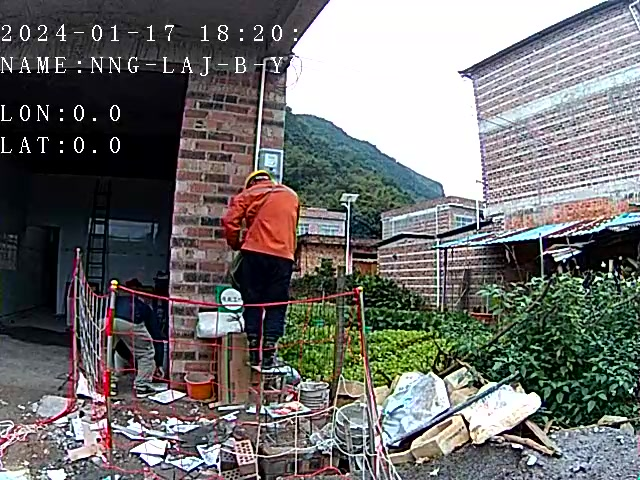halt: (247, 173, 278, 192)
